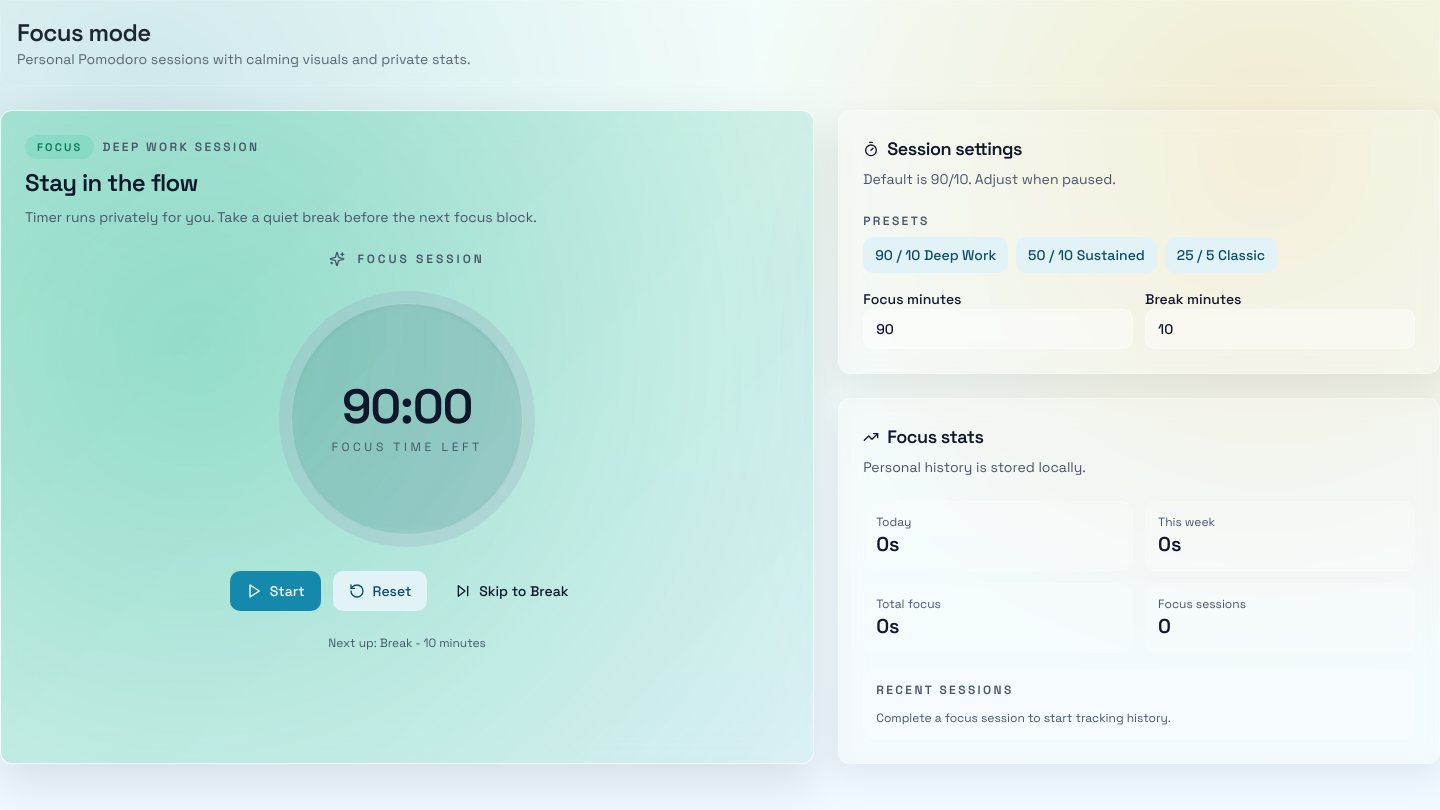
FocusPage › records partial focus time when skipped
Replace the text in the number field labelled "Focus minutes" with "1": x=998, y=329 [863,309,1133,349]
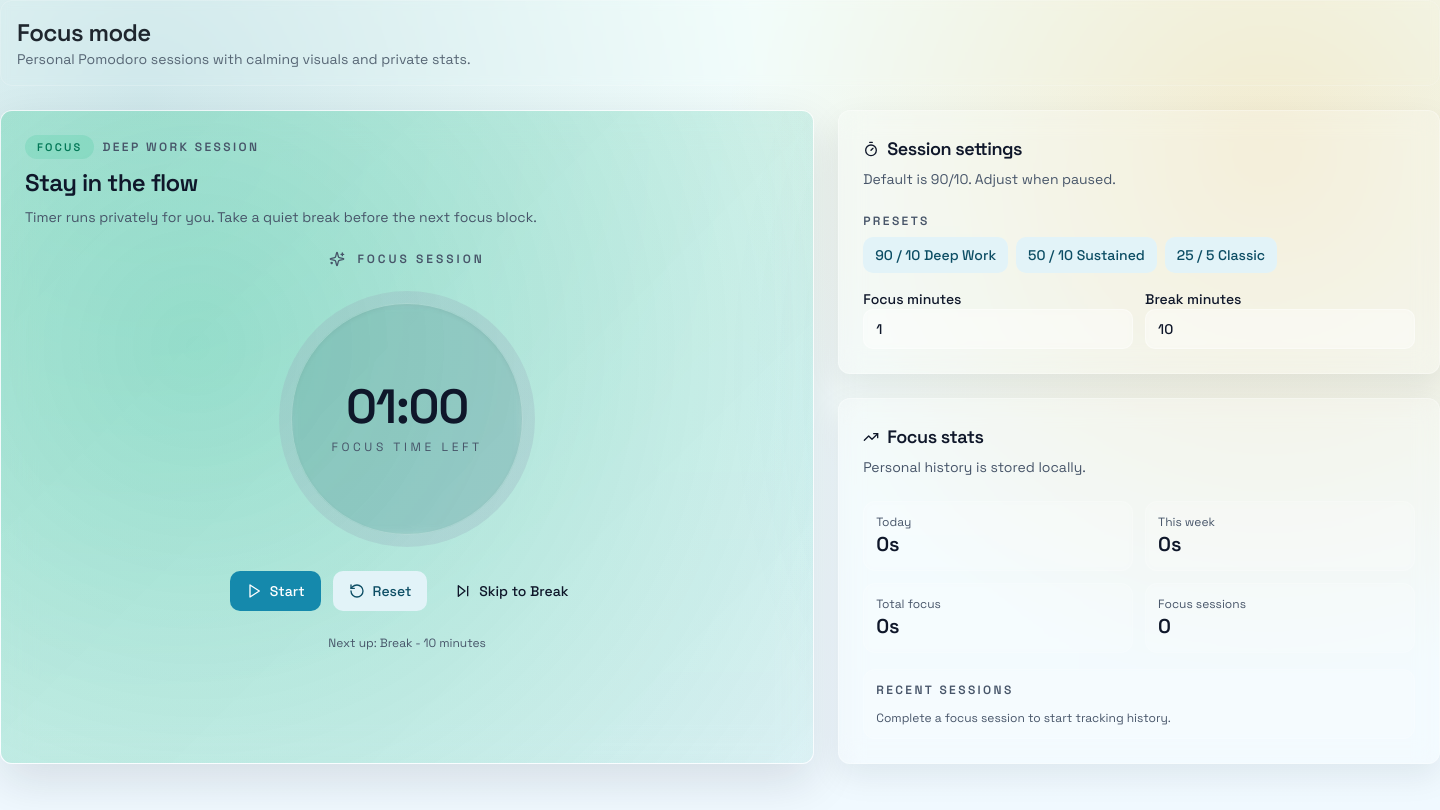
Click the button "Start": x=275, y=591 [230,571,321,611]
Wait 42000 ms
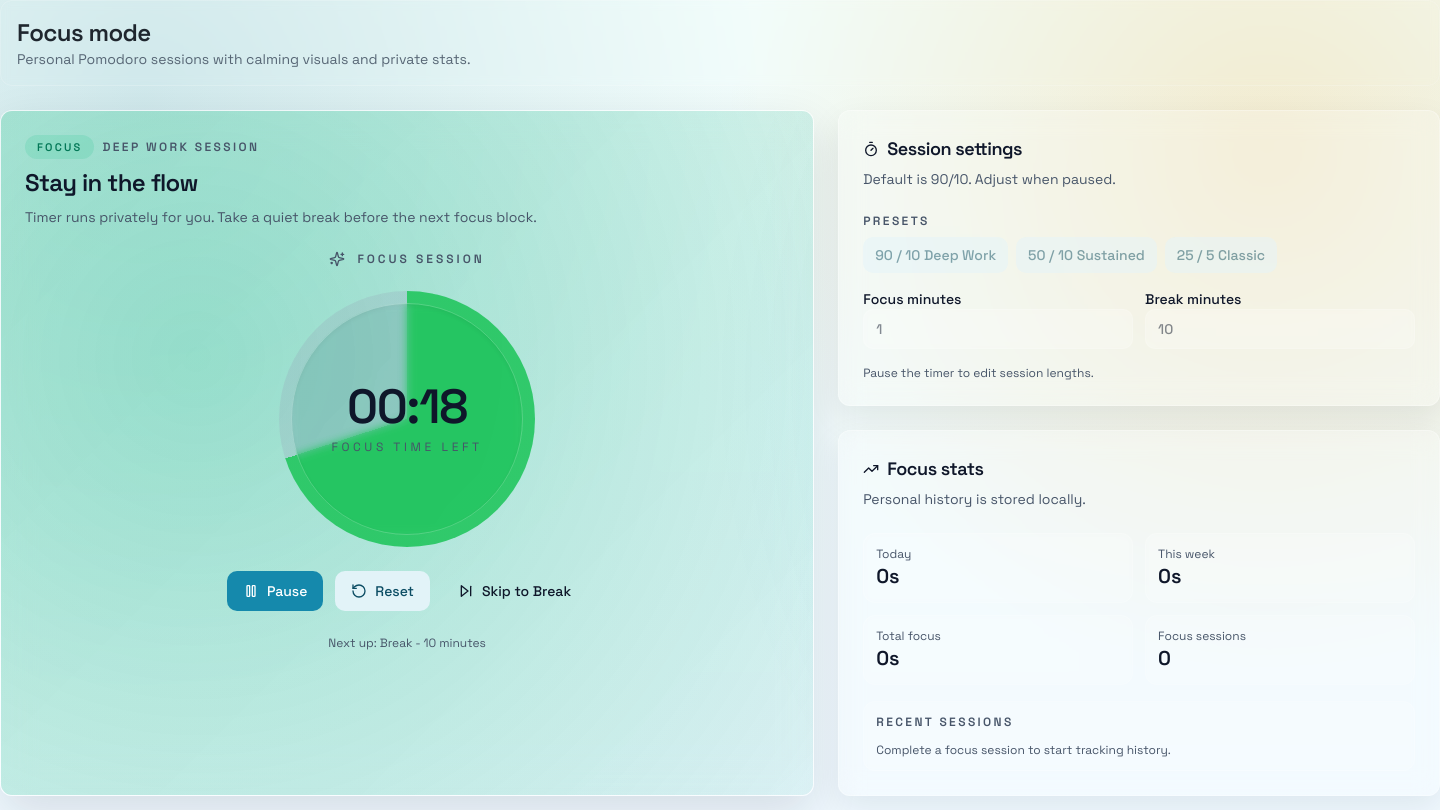
Click the button "Skip to Break": x=515, y=591 [442,571,587,611]
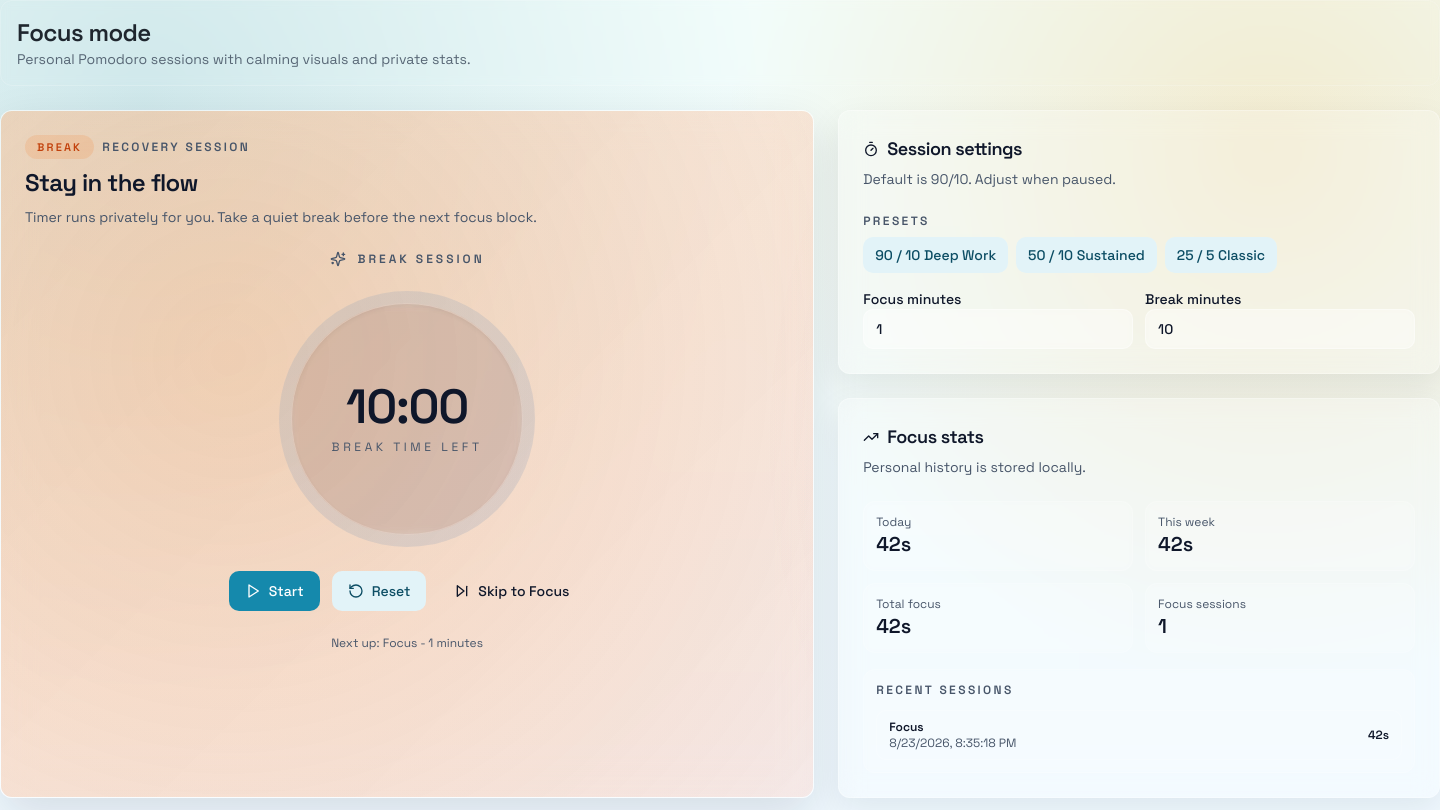
Now the text "focus" is shown once, box [889,719,924,735]
Now the text "42s" in the row of "8/23/2026, 8:35:18 PM" is shown, box [1368,727,1389,743]
